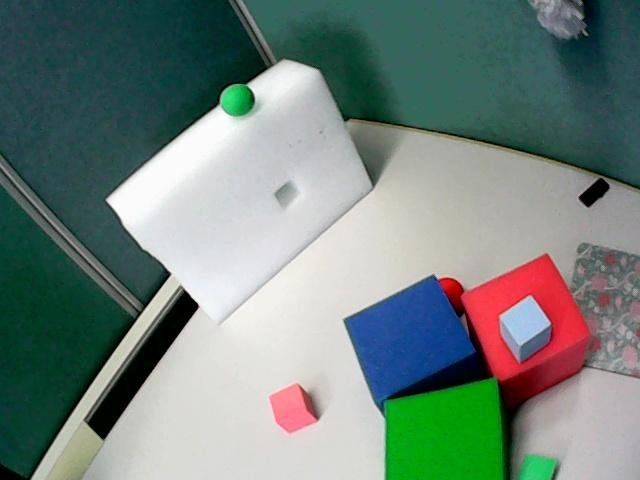blue_block: (345, 276, 483, 409), (499, 295, 551, 362)
red_block: (462, 254, 589, 407), (269, 383, 316, 432)
